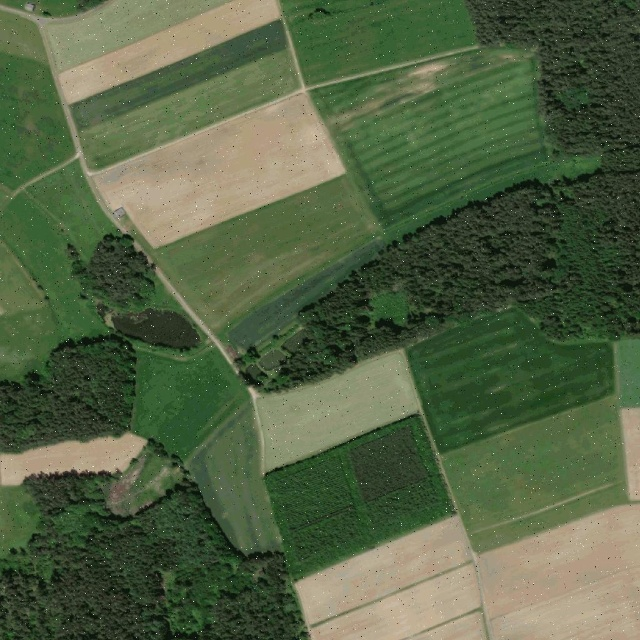vegetation: (254, 0, 640, 391), (0, 472, 310, 640), (263, 414, 459, 581), (0, 341, 138, 452), (65, 232, 153, 313)
